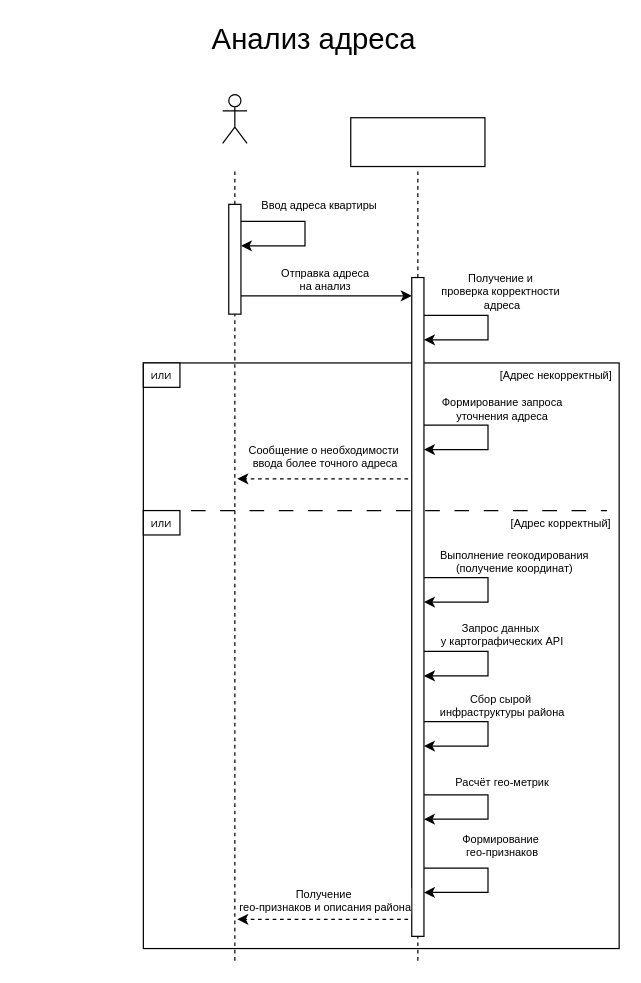
The diagram is 641 pixels wide and 983 high, and some of its shapes have lost their labels. Each missing label, with the centre of its shape:
CV-сервис: point 417,142
Арендодатель: point 234,118
